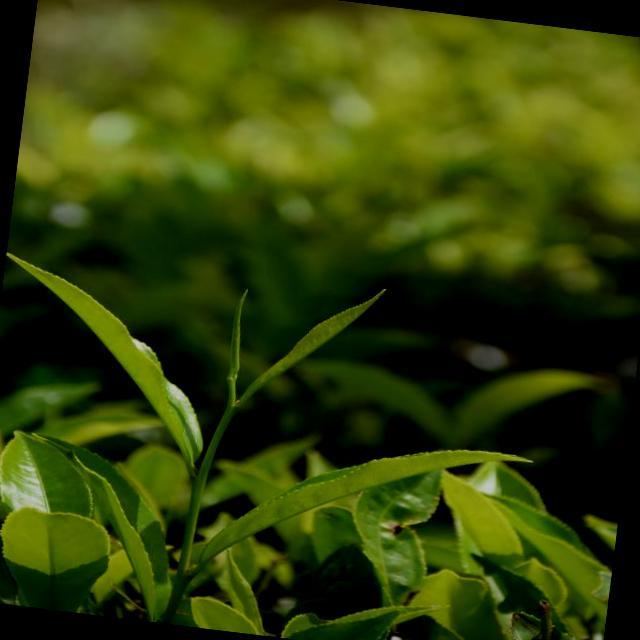Stem: (221, 407, 235, 422)
